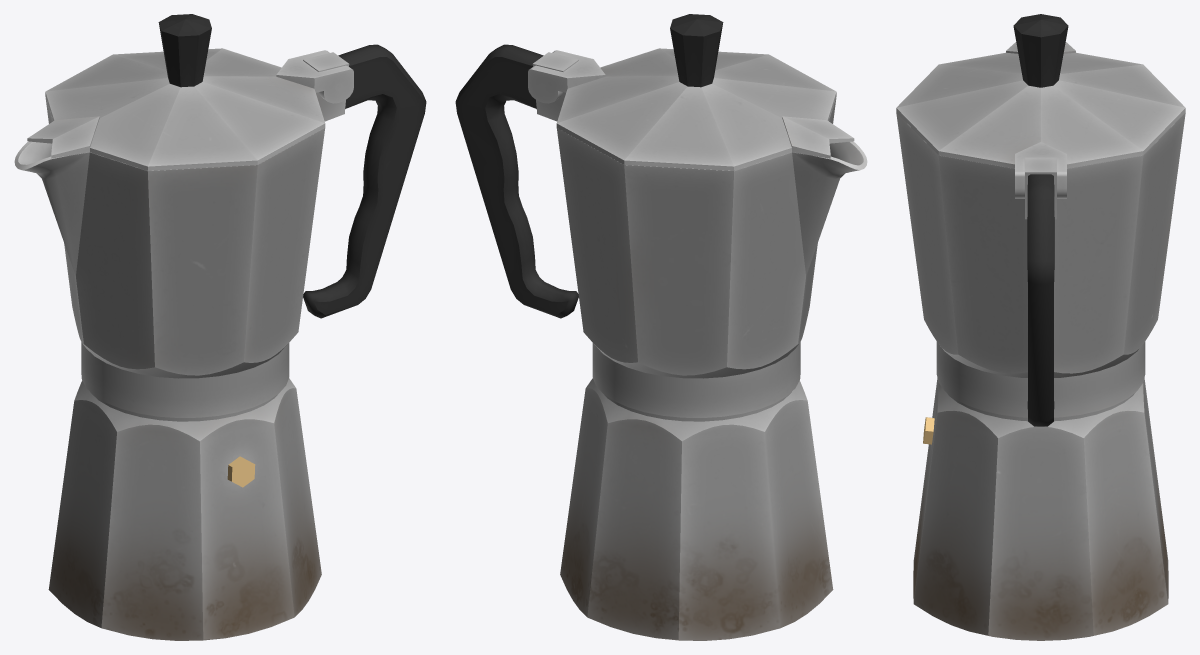
The model's file is moka_coffee_pot.glb.
The picture shows the model from 3 angles, left to right: view 1: azimuth 30°, elevation 25°; view 2: azimuth 150°, elevation 25°; view 3: azimuth 270°, elevation 25°; orthographic projection.
Visible parts, largest first — view 1: upper_part_3, lower_part_0, lid_2, handle_4, valve_5; view 2: upper_part_3, lower_part_0, lid_2, handle_4; view 3: upper_part_3, lower_part_0, lid_2, handle_4.
Boxes of the visible parts, left/top/right/bottom form: upper_part_3: left=14, top=52, right=349, bottom=417; lower_part_0: left=48, top=378, right=321, bottom=640; lid_2: left=27, top=14, right=353, bottom=170; handle_4: left=303, top=44, right=426, bottom=318; valve_5: left=227, top=456, right=255, bottom=487; upper_part_3: left=532, top=52, right=867, bottom=417; lower_part_0: left=560, top=378, right=833, bottom=640; lid_2: left=528, top=14, right=854, bottom=170; handle_4: left=455, top=44, right=578, bottom=318; upper_part_3: left=896, top=113, right=1185, bottom=417; lower_part_0: left=913, top=378, right=1168, bottom=640; lid_2: left=896, top=14, right=1185, bottom=198; handle_4: left=1027, top=174, right=1054, bottom=426.
Bounding box in the file's own units: 2.05 × 2.75 × 1.27.
1 material, 1 textured.
